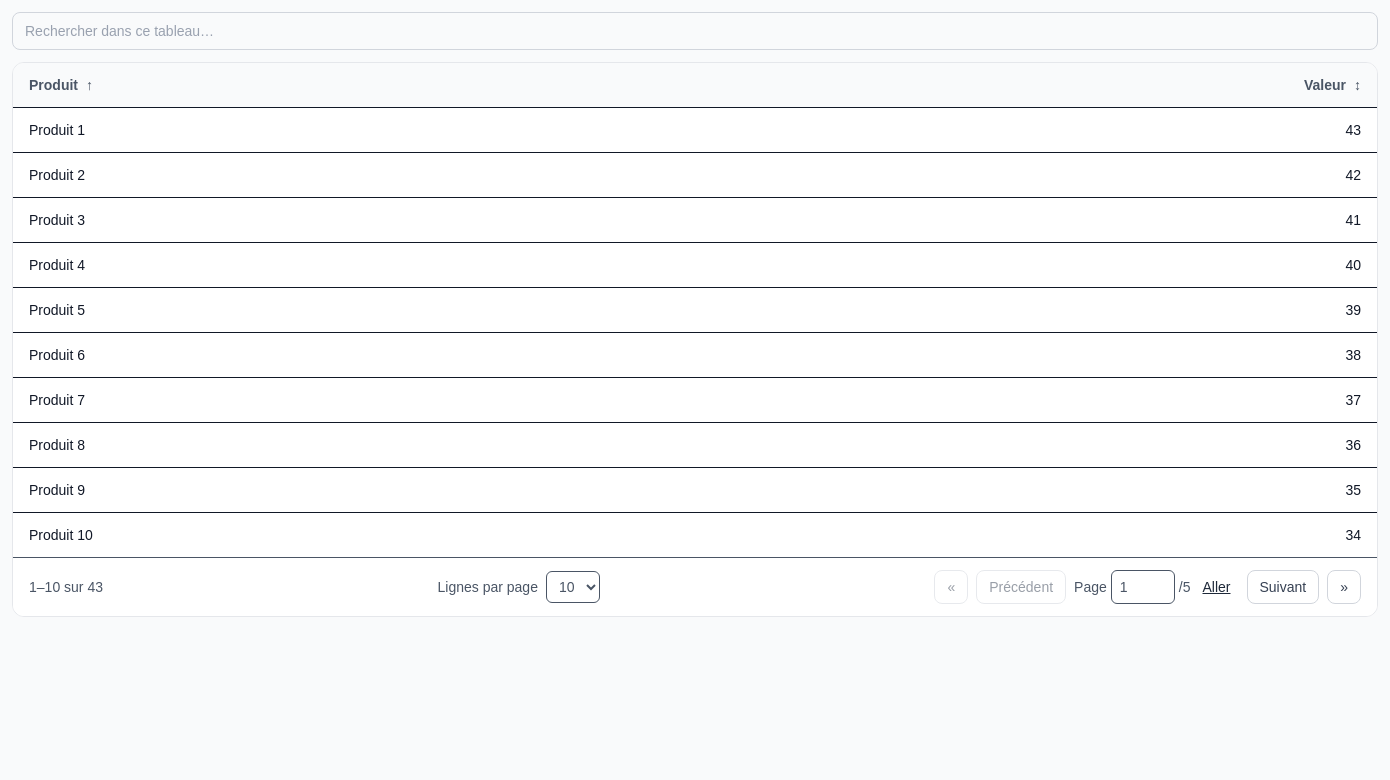
Test: bounded tables › defaults to ten rows, navigates to the last page and resets on size changes
The width and height of the screenshot is (1390, 780).
Check: the text "1–10 sur 43" is shown, box [29,577,103,597]
Click the button named "Dernière page" at (1344,587), box [1327,570,1361,604]
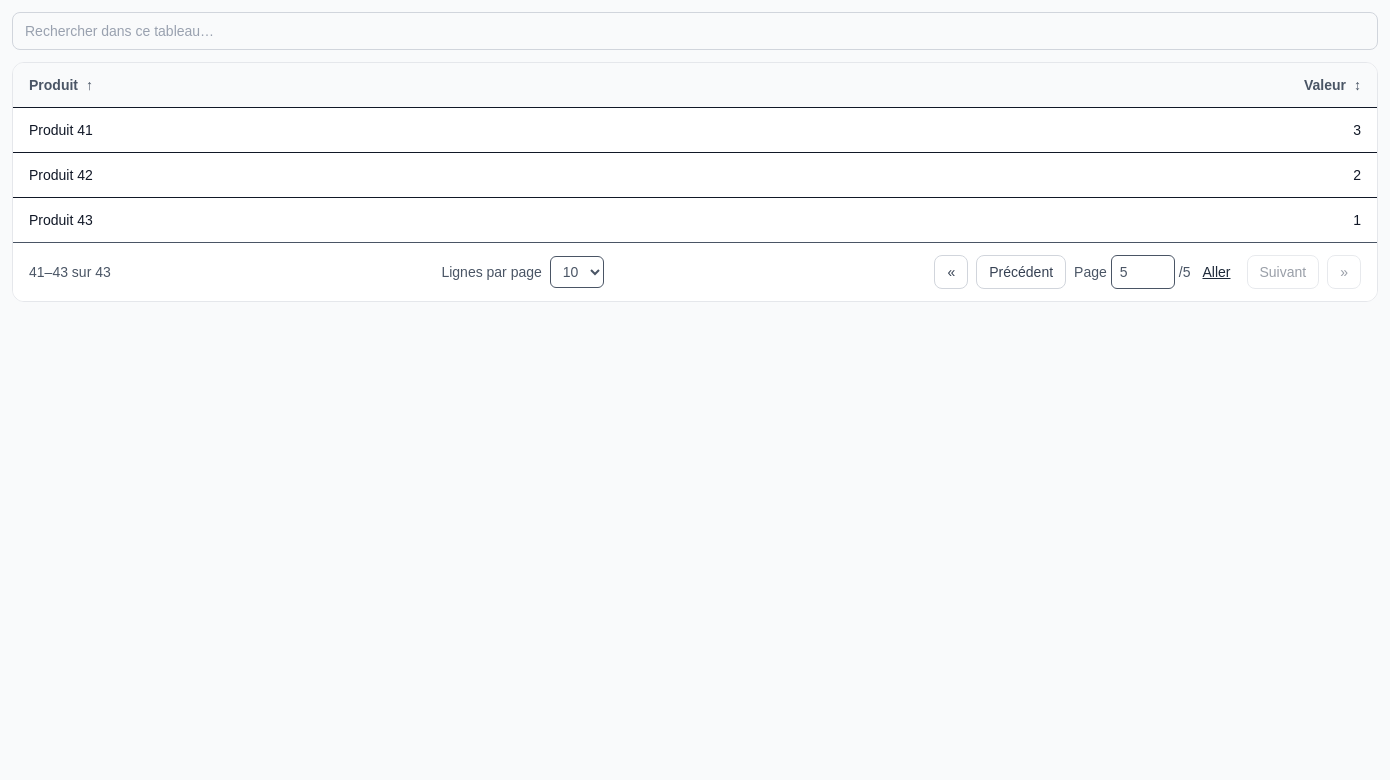
Check: the text "41–43 sur 43" is shown, box [29,262,111,282]
Select "20" in the dropdown labelled "Lignes par page" at (577,272), box [550,256,604,288]
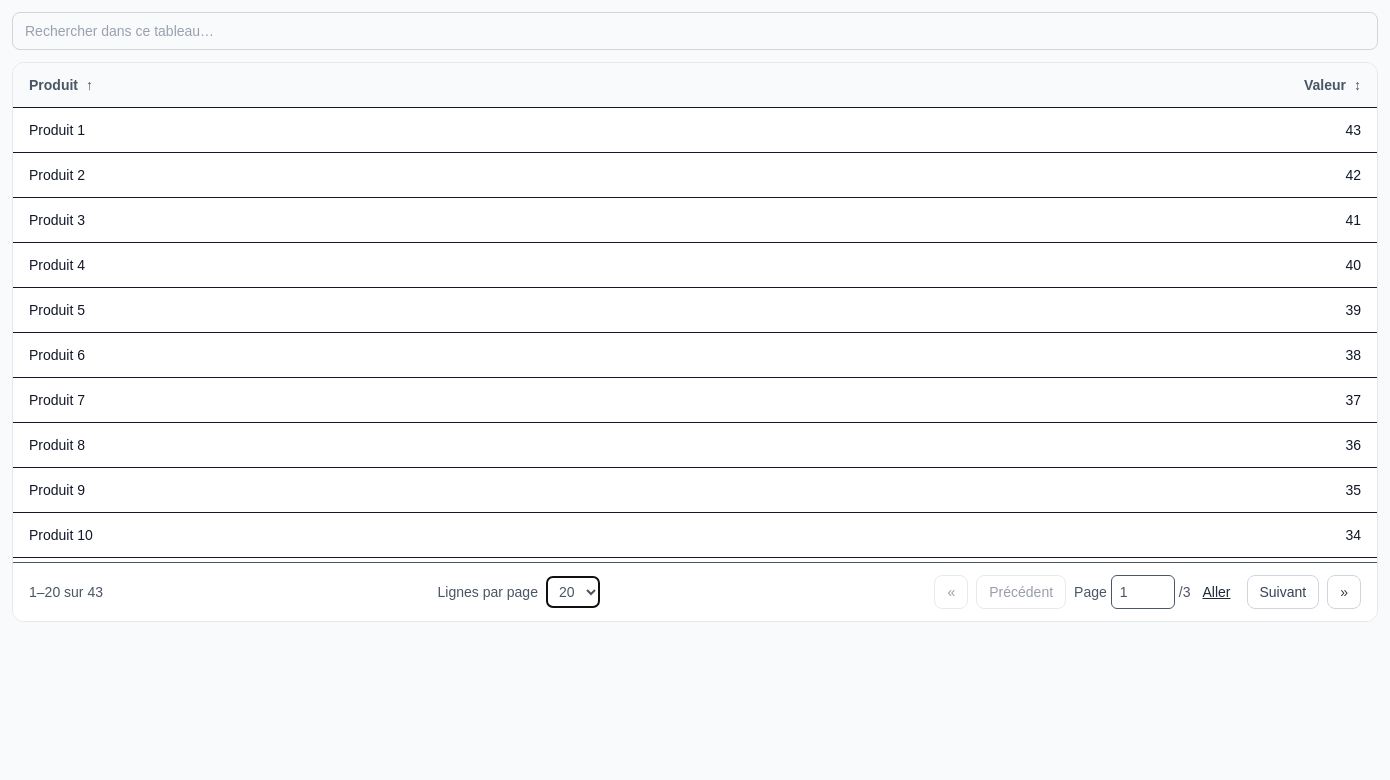
Check: the text "1–20 sur 43" is shown, box [29,582,103,602]
Replace the text in the number field named "Aller à la page" with "2" at (1143,592), box [1111,575,1175,609]
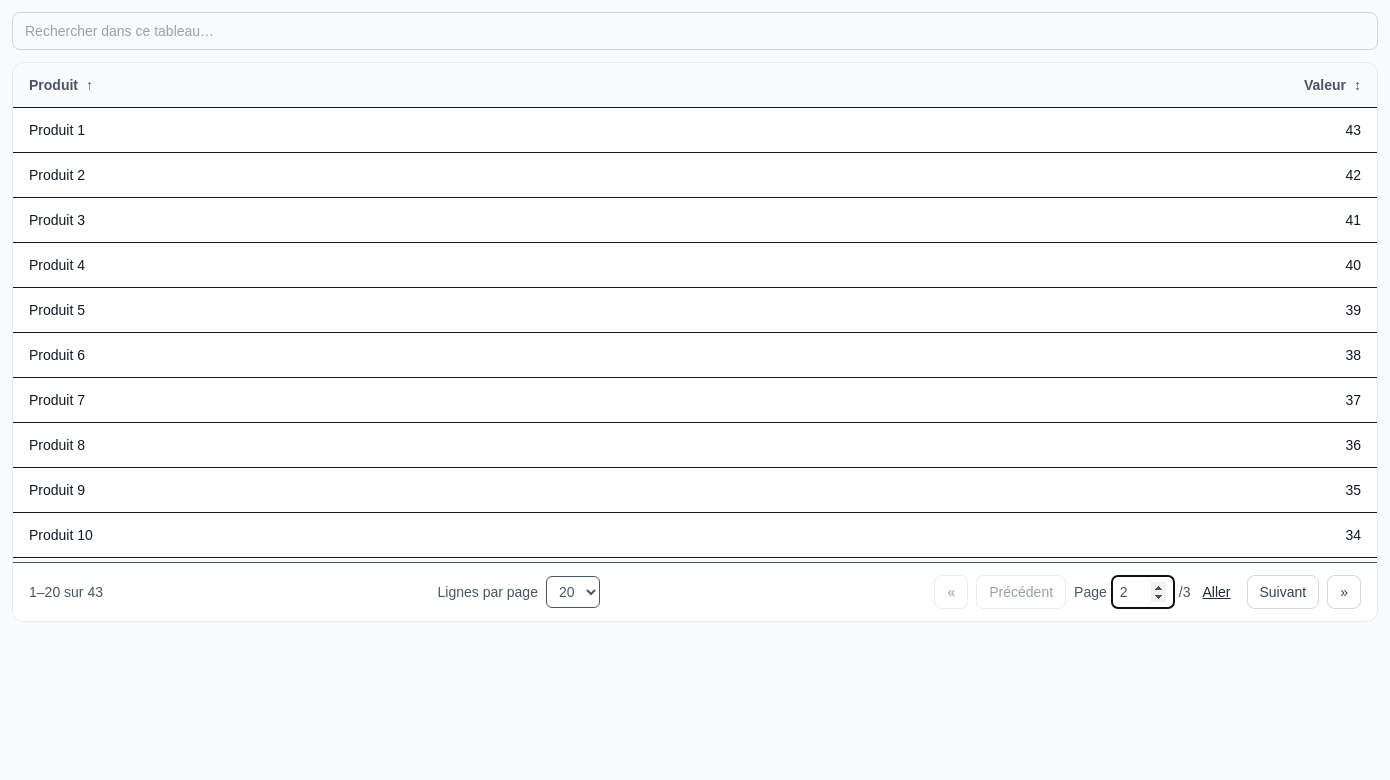
Click the button "Aller" at (1216,592), box [1194,576,1238,608]
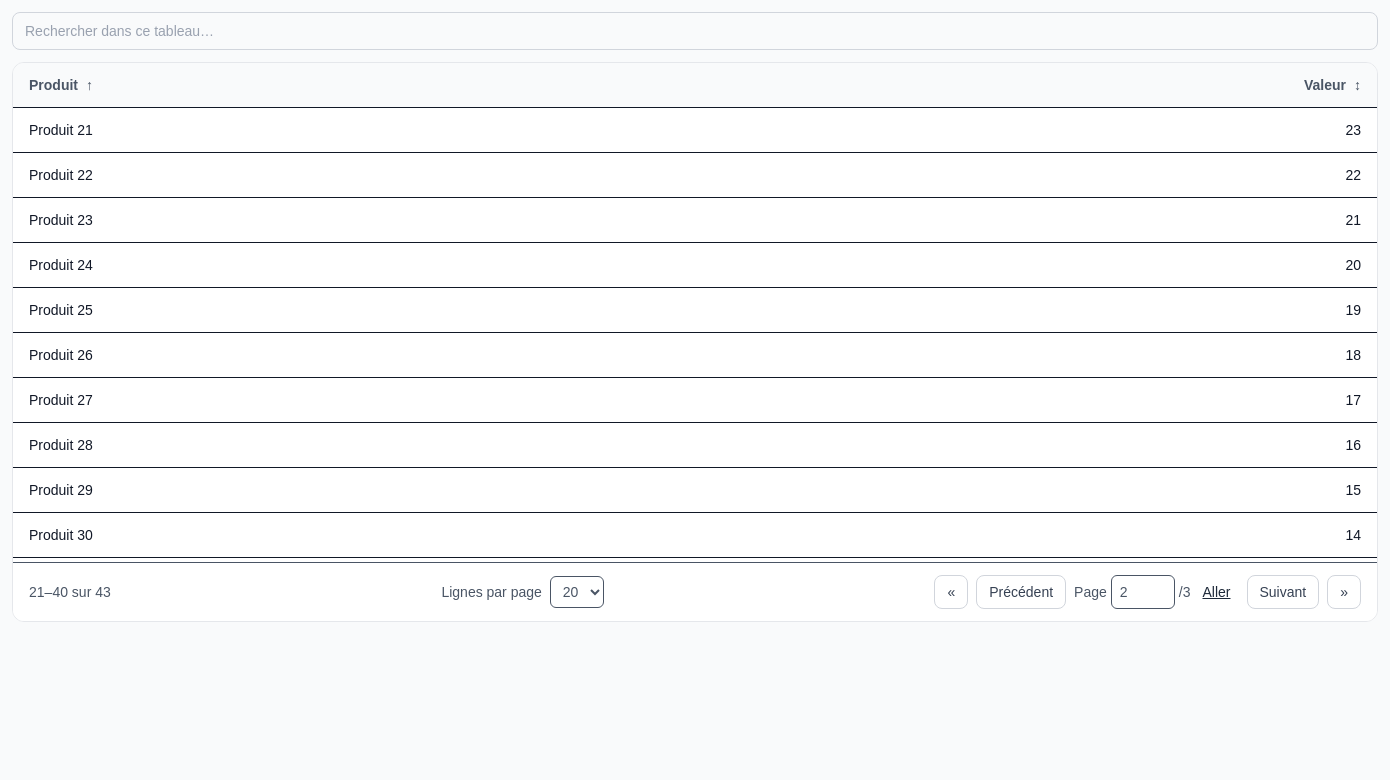
Check: the text "21–40 sur 43" is shown, box [29,582,111,602]
